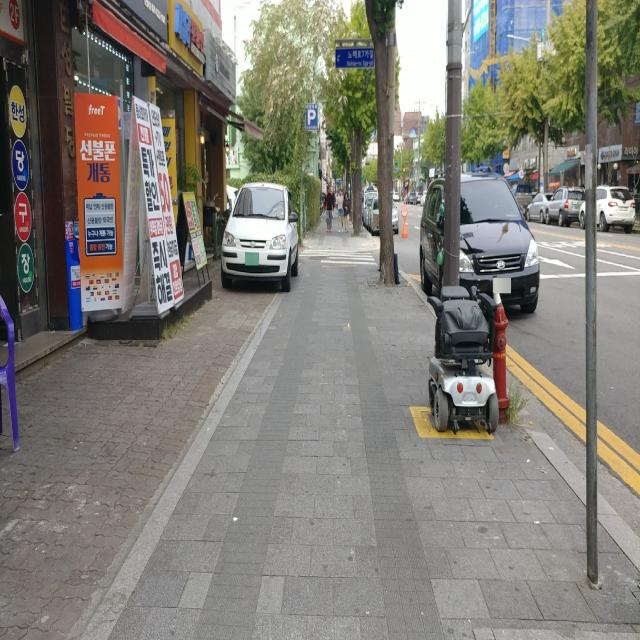횡단보도: (298, 248, 378, 266)
